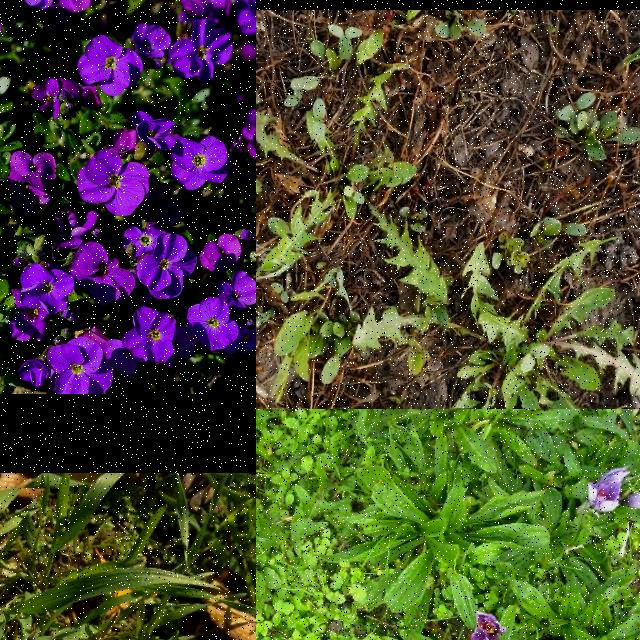flower: (471, 611, 505, 640), (628, 488, 640, 509)
overlap: (586, 466, 632, 514)
